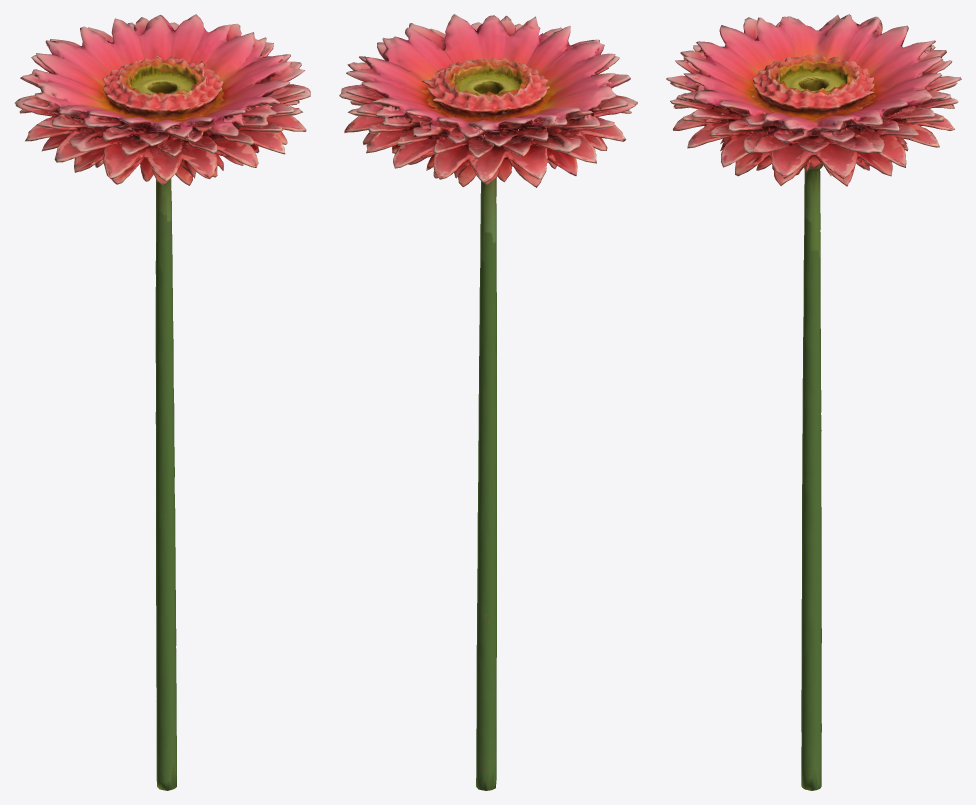
Rendered from Gerbera.glb.
3 renders of one model, left to right at view 1: azimuth 30°, elevation 25°; view 2: azimuth 150°, elevation 25°; view 3: azimuth 270°, elevation 25°, orthographic.
Parts seen in each view (by area): view 1: Mesh_0; view 2: Mesh_0; view 3: Mesh_0.
Boxes of the visible parts, left/top/right/bottom form: Mesh_0: left=14, top=14, right=310, bottom=790; Mesh_0: left=339, top=14, right=637, bottom=790; Mesh_0: left=666, top=14, right=961, bottom=790.
Size of the model in its own units: 0.2568 by 0.7 by 0.26.
1 material, 1 textured.
